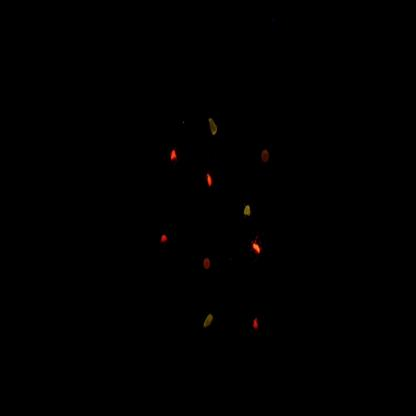PET: (148, 226, 176, 264), (242, 306, 270, 341)
PP: (204, 109, 224, 147), (201, 304, 218, 341), (240, 196, 255, 223)
PS: (255, 140, 277, 175), (197, 249, 218, 284)
PVC: (248, 229, 267, 268), (166, 141, 182, 175), (205, 168, 218, 193)
